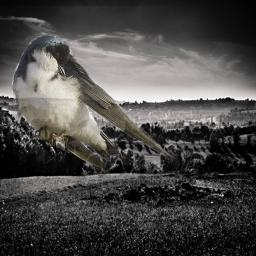Swallow: (9, 33, 175, 171)
